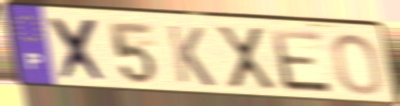5: (106, 20, 162, 86)
E: (267, 27, 337, 96)
K: (164, 22, 218, 89)
O: (329, 32, 385, 97)
X: (213, 24, 280, 92), (46, 15, 111, 85)
